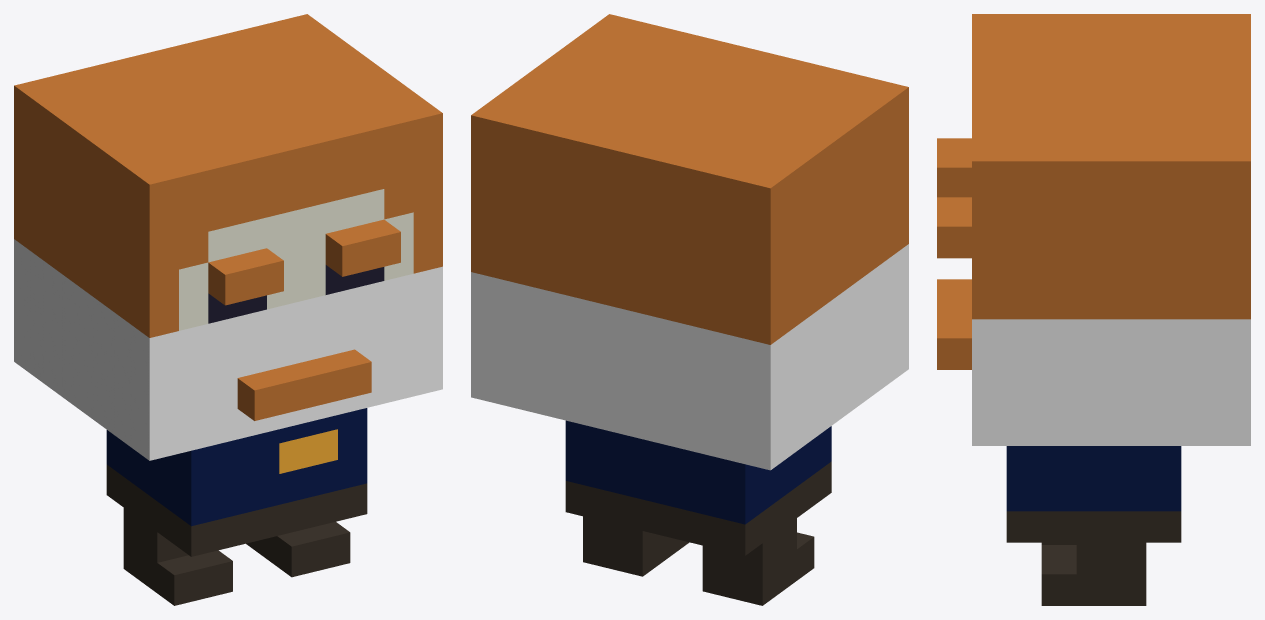
The model's file is roy_v2.glb.
3 views of the same model, side by side, from view 1: azimuth 30°, elevation 25°; view 2: azimuth 150°, elevation 25°; view 3: azimuth 270°, elevation 25° (orthographic). The views are drawn at different scales.
Visible parts, largest first — view 1: roy; view 2: roy; view 3: roy.
Part boxes in pixels (x1=…): roy: x1=14, y1=14, x2=442, y2=605; roy: x1=471, y1=14, x2=908, y2=605; roy: x1=937, y1=14, x2=1250, y2=605.
Size of the model in its own units: 10 by 15 by 9.
